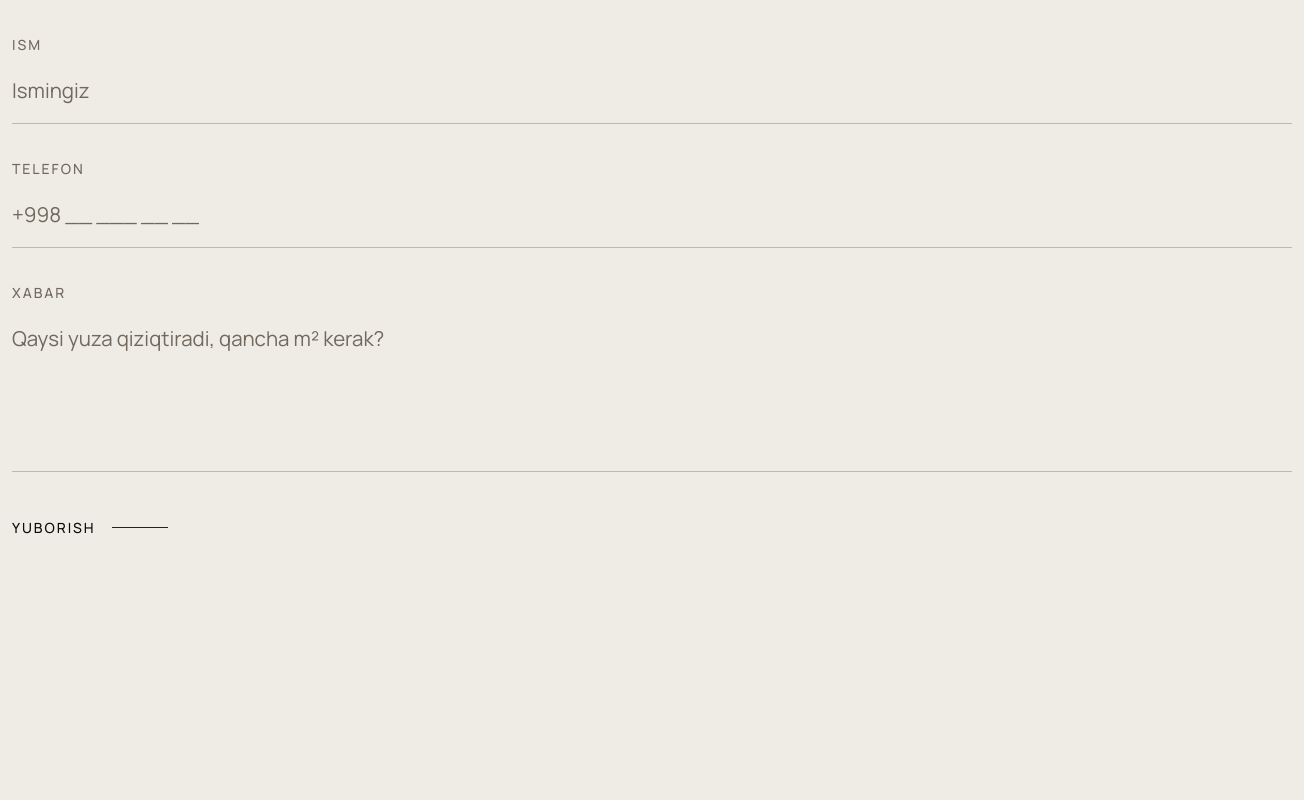
Test case: Forma — server rad etsa (429) uning matni ko‘rinadi, forma saqlanadi
The image size is (1304, 800).
Type "Aziz" into the field labelled "Ism" at (652, 91), box [12,58,1292,124]
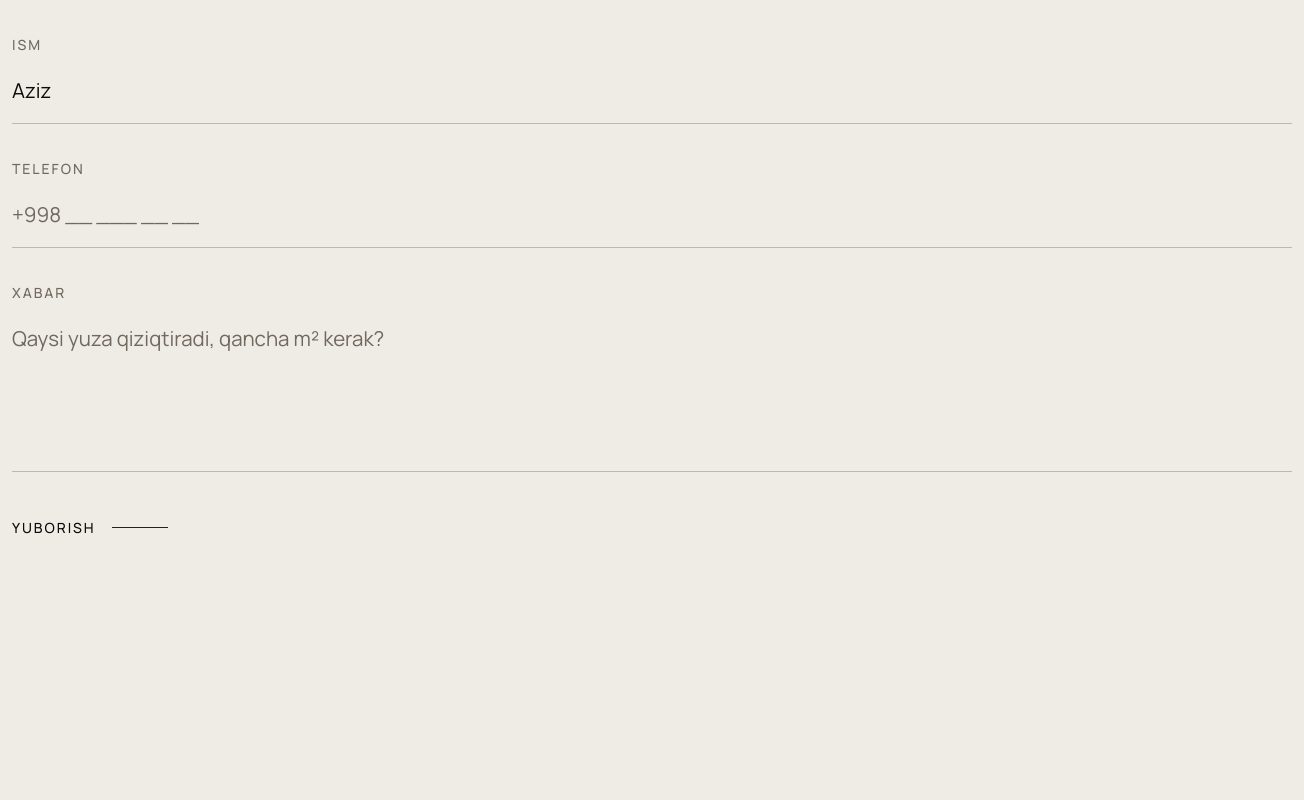
Type "901234567" into the field labelled "Telefon" at (652, 215), box [12,182,1292,248]
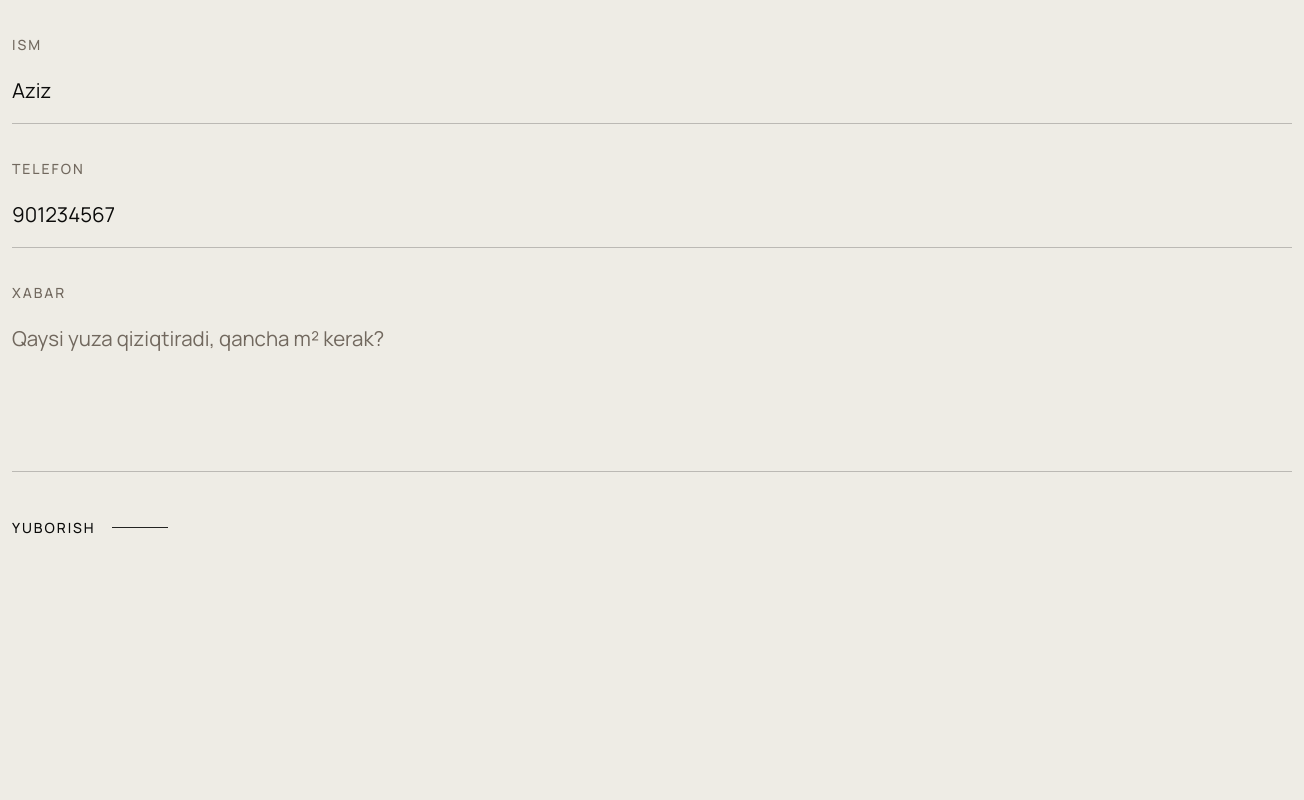
Type "Salom" into the text box labelled "Xabar" at (652, 389), box [12,306,1292,472]
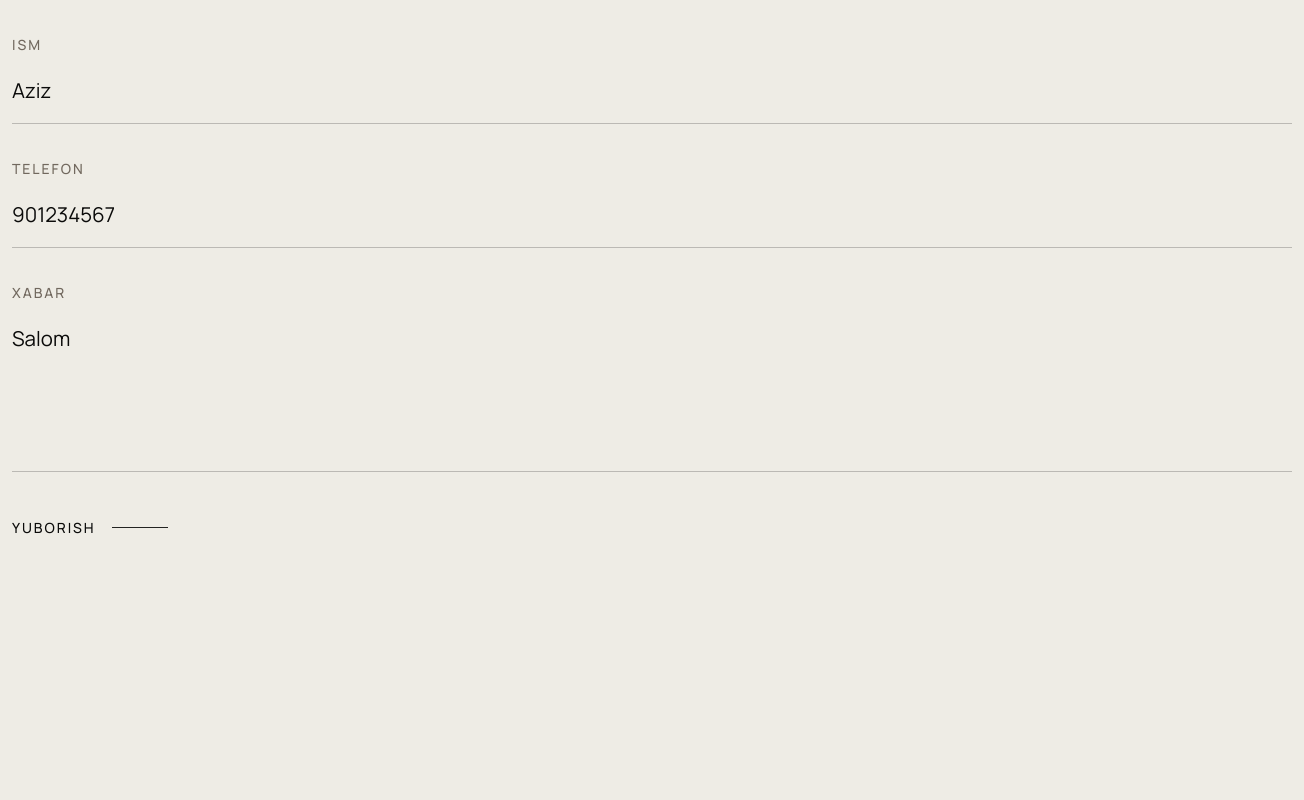
Click the button "Yuborish" at (90, 527), box [12,520,168,535]
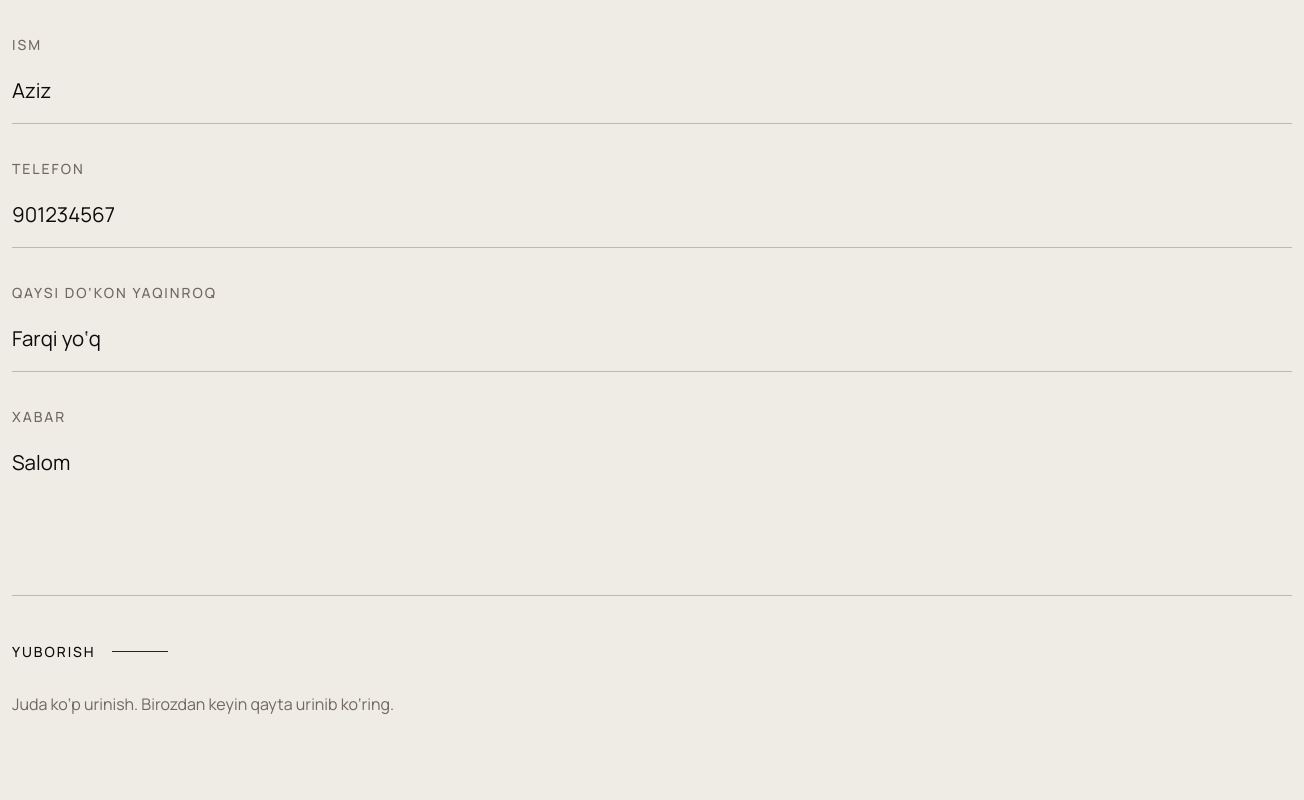
Check: the message shows "Juda ko‘p urinish", box [12,693,394,715]
